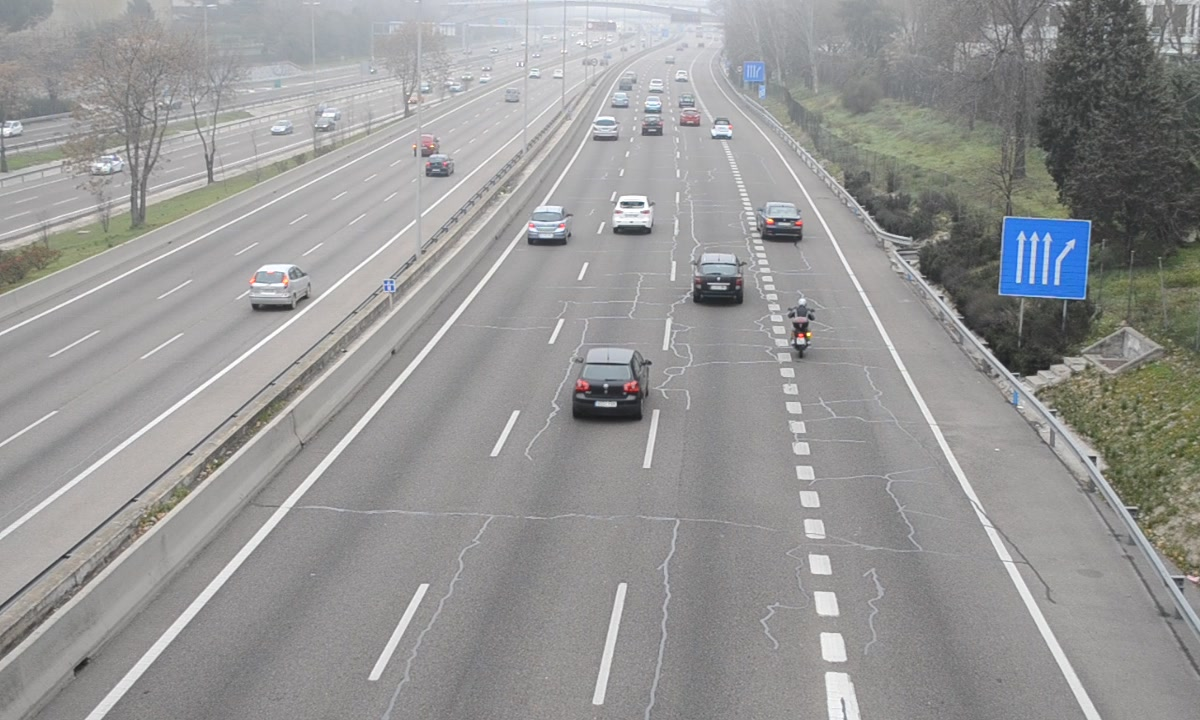car: (573, 348, 649, 420), (693, 255, 745, 304), (757, 201, 804, 239), (526, 206, 572, 244), (612, 195, 655, 233), (591, 114, 618, 141), (712, 117, 732, 141)
motorcycle: (786, 295, 817, 360)
